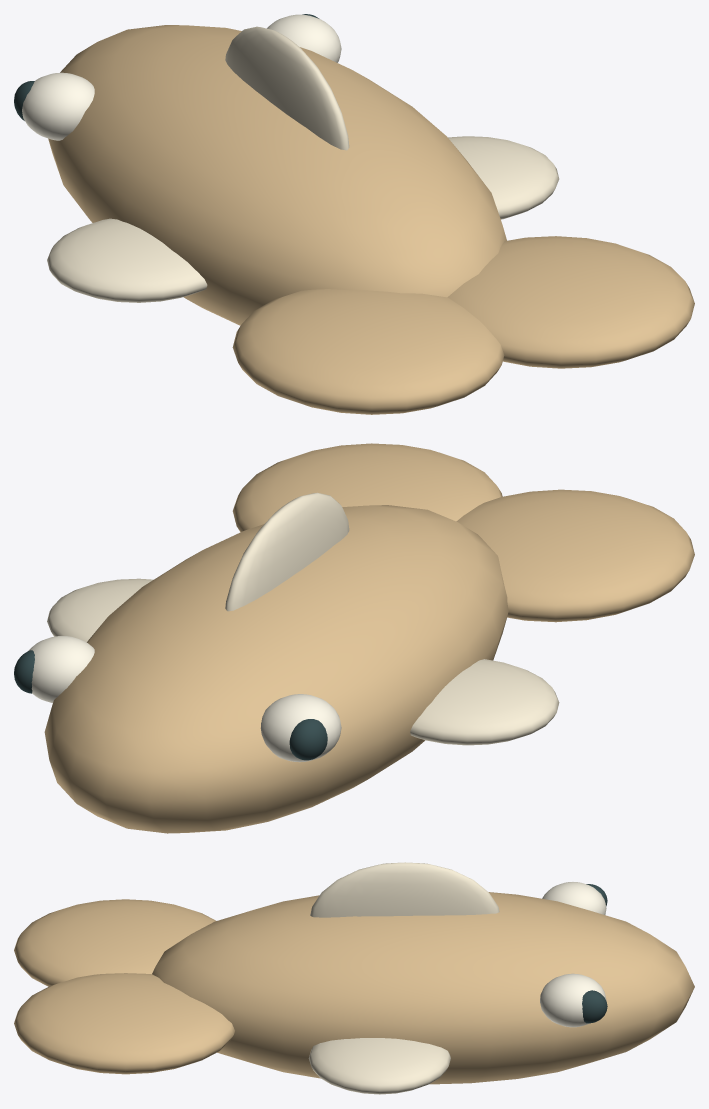
The model's file is Fish2.fbx.
The picture shows the model from 3 angles, top to bottom: view 1: azimuth 30°, elevation 25°; view 2: azimuth 150°, elevation 25°; view 3: azimuth 270°, elevation 25°; orthographic projection. The views are drawn at different scales.
Parts seen in each view (by area): view 1: Fish2; view 2: Fish2; view 3: Fish2.
Boxes of the visible parts, <box> form: Fish2: <box>14,14,694,414</box>; Fish2: <box>14,443,694,833</box>; Fish2: <box>14,862,694,1094</box>.
Bounding box in the file's own units: 44 × 22 × 67.
